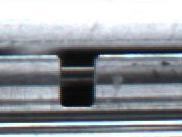oneu: (42, 50, 109, 112), (175, 50, 182, 111)
